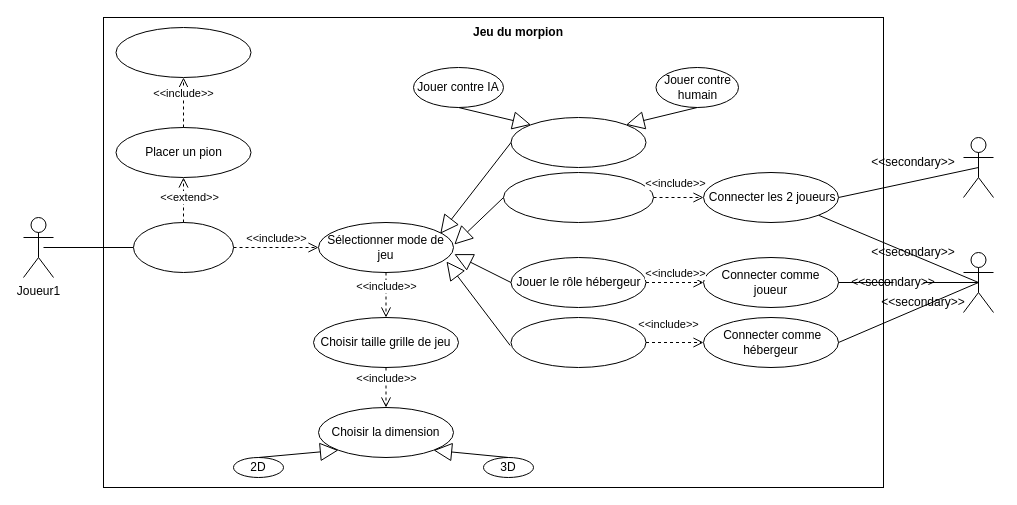
The diagram is 1017 pixels wide and 505 high, and some of its shapes have lost their labels. The shapes that lost their labels are listed below. From the top down, each one's centre as x and y in pixels, then its label:
(183,52): Confirmer choix
(578,142): Jouer en local
(978,167): Joueur3
(578,197): Jouer uniquement le rôle serveur
(183,247): Jouer au Morpion
(978,282): Joueur2
(578,342): Jouer le rôle client
